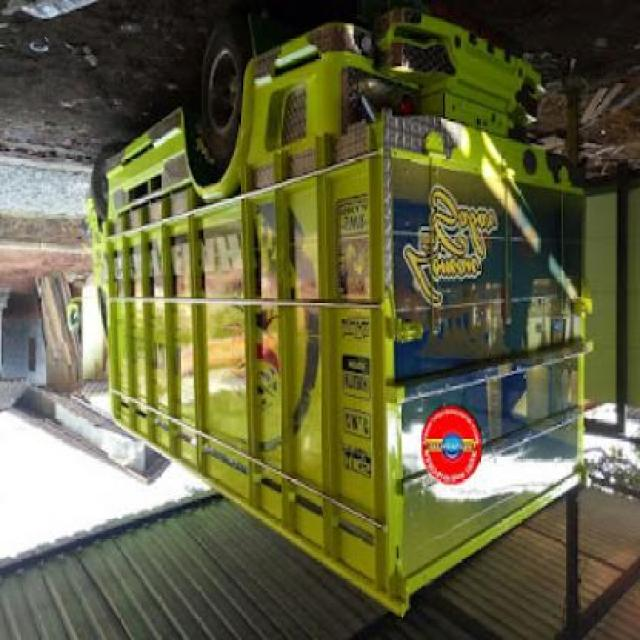truck: (65, 16, 591, 622)
